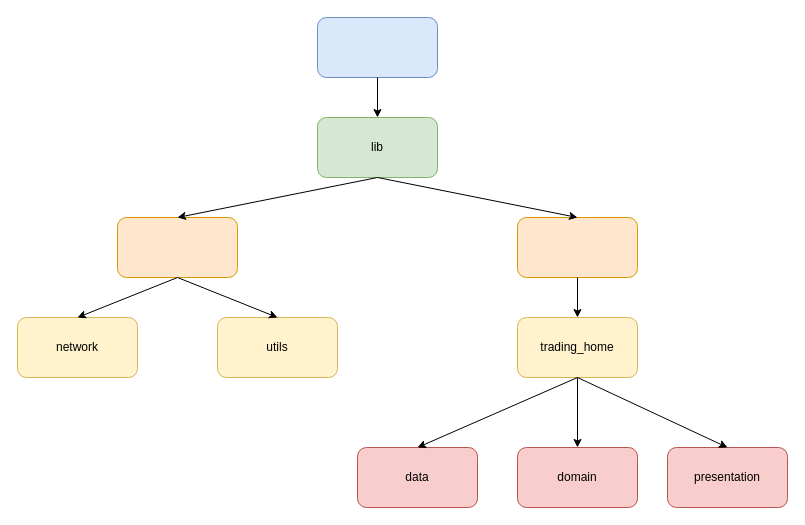
Image size: 805x525. Some labels were removed from this diagram. Here are the shapes that lost their labels. From the top down, the box of each, then its label:
(316, 16, 438, 78): Trade Stream
(116, 216, 238, 278): core
(516, 216, 638, 278): features
